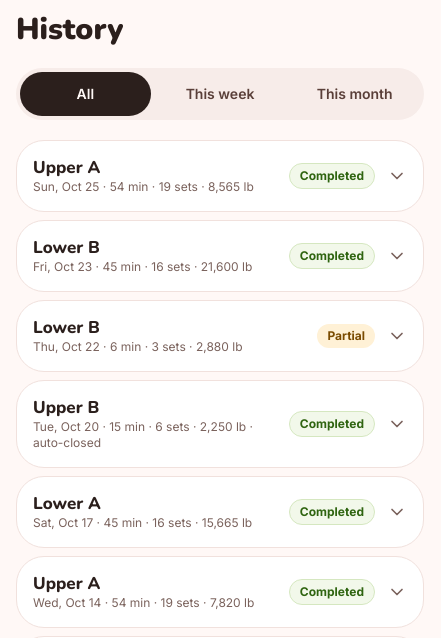
Test: History expanded (read-only view) › flags a swapped exercise
Click the button "Lower A Sat, Oct 17 · 45 min · 16 sets · 15,665 lb Completed". click: {"x": 220, "y": 512}
box: [17,477,423,547]
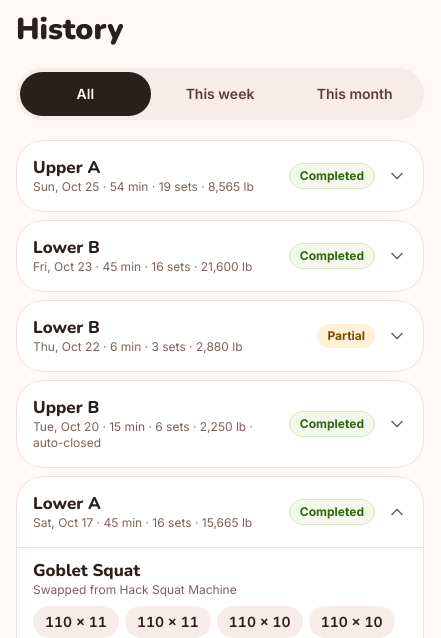
Now the heading "Goblet Squat" is shown, box [33,559,140,582]
Now the text "Swapped from Hack Squat Machine" is shown, box [33,582,237,597]
